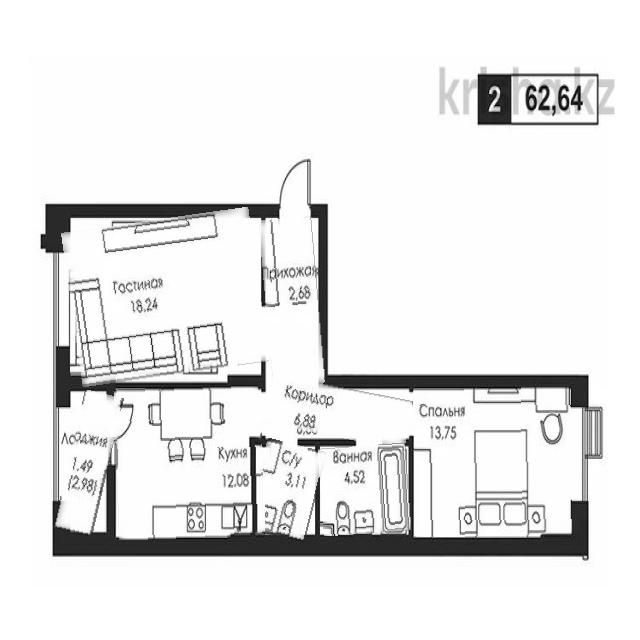balcony: (56, 389, 124, 537)
bathroom: (318, 445, 411, 535), (246, 439, 325, 542)
hallway: (258, 216, 325, 386), (263, 375, 413, 450)
kitchen: (114, 389, 261, 540)
living_room: (62, 207, 269, 385), (414, 387, 572, 537)
